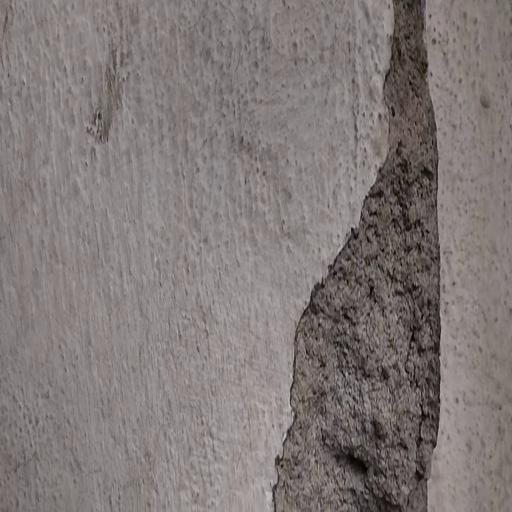spalling: (275, 3, 470, 512)
